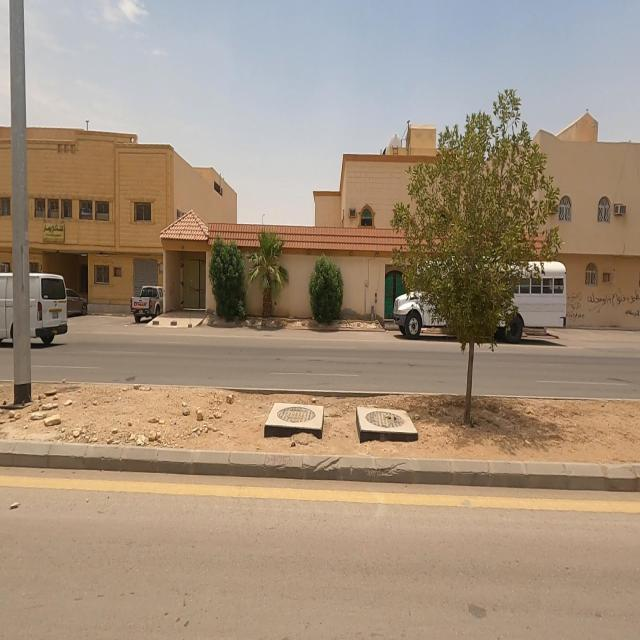Graffiti: (566, 288, 640, 322)
